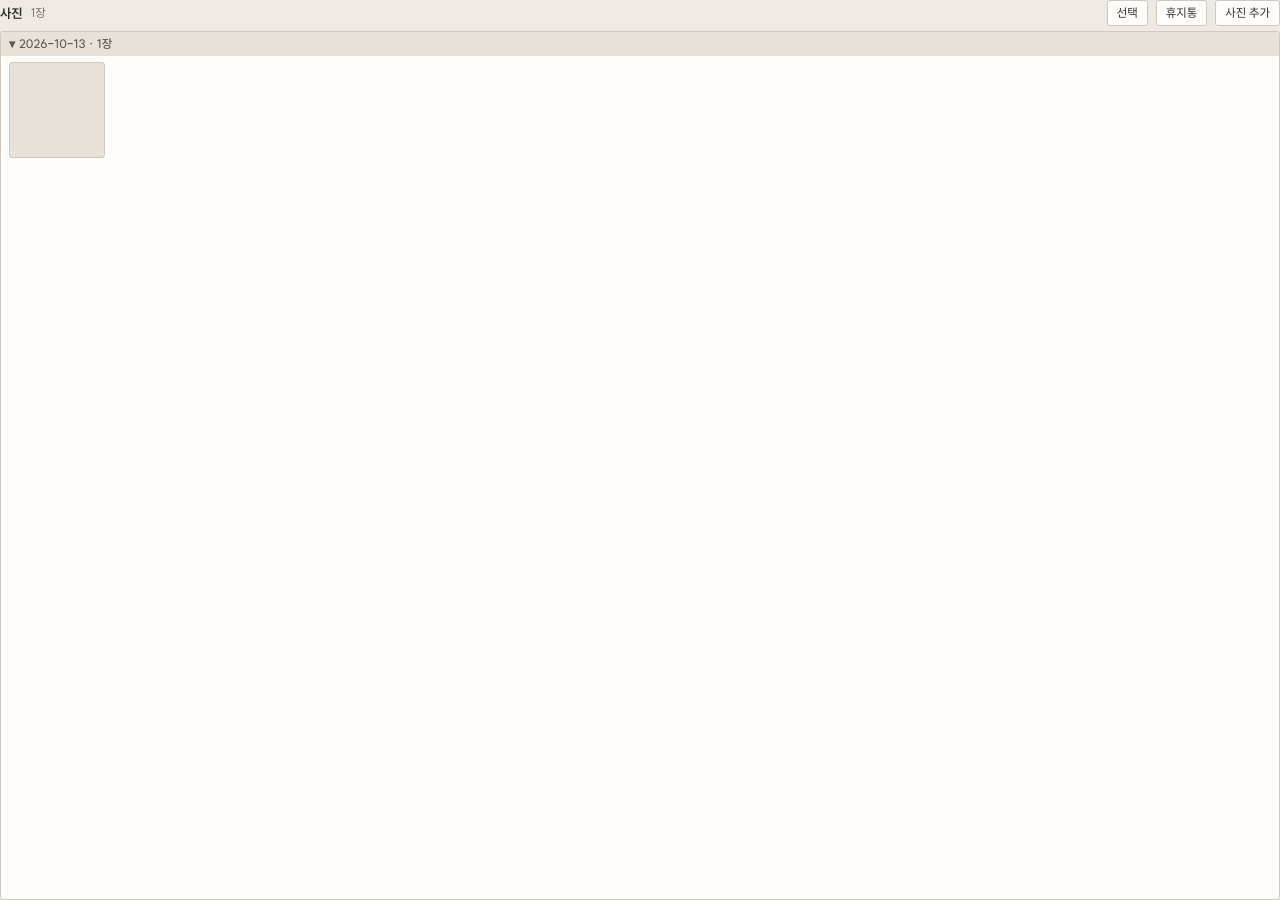
Test case: 고객 사진 휴지통 (CRM-15) › 복원하면 휴지통에서 빠지고 갤러리 목록을 다시 읽는다
The width and height of the screenshot is (1280, 900).
Click the button "휴지통" at (1182, 13), box [1156,0,1207,26]
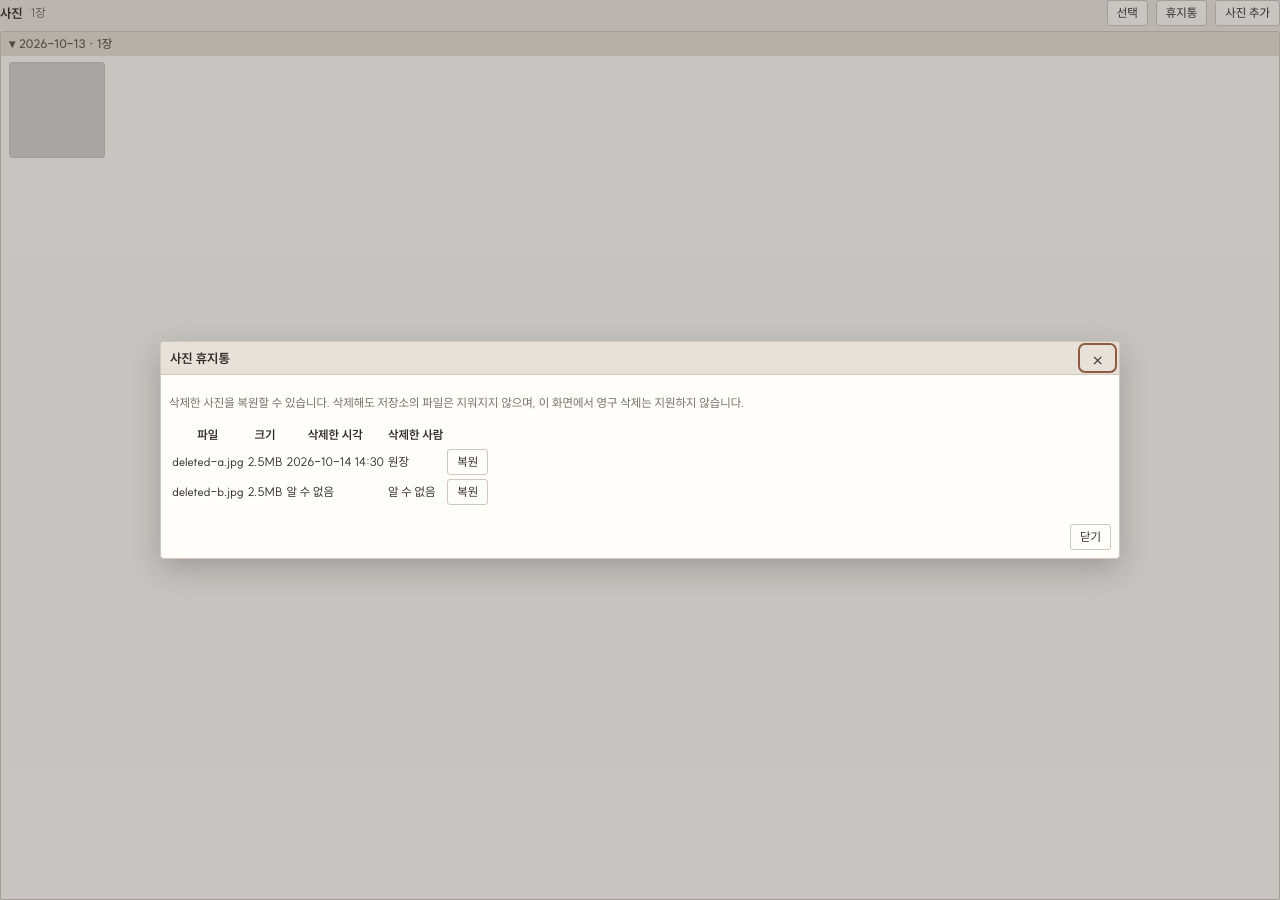
Click the button with aria-label "deleted-a.jpg 복원" at (468, 462), box [447,449,488,475]
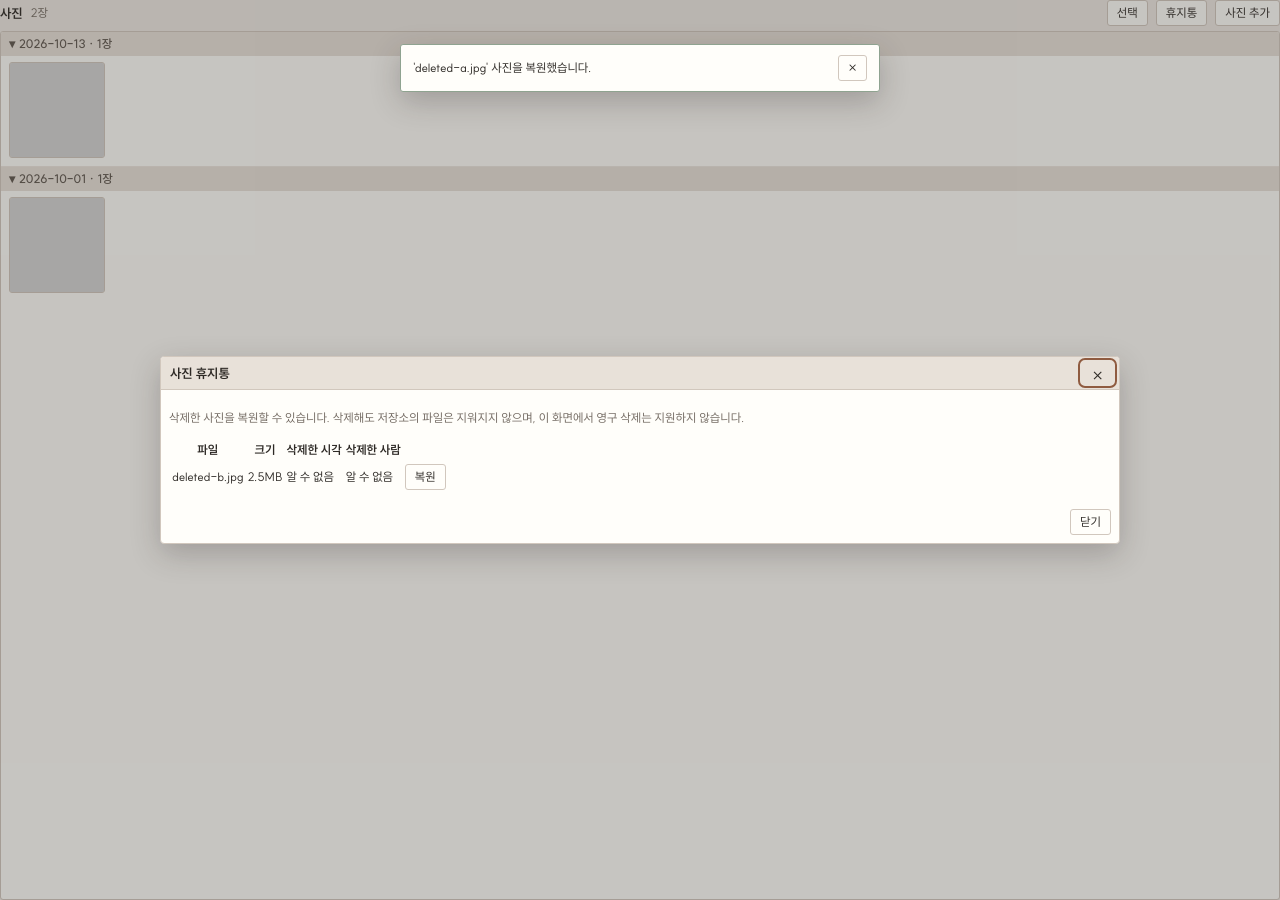
Expected: the text "'deleted-a.jpg' 사진을 복원했습니다." is shown, [413,60,592,75]
